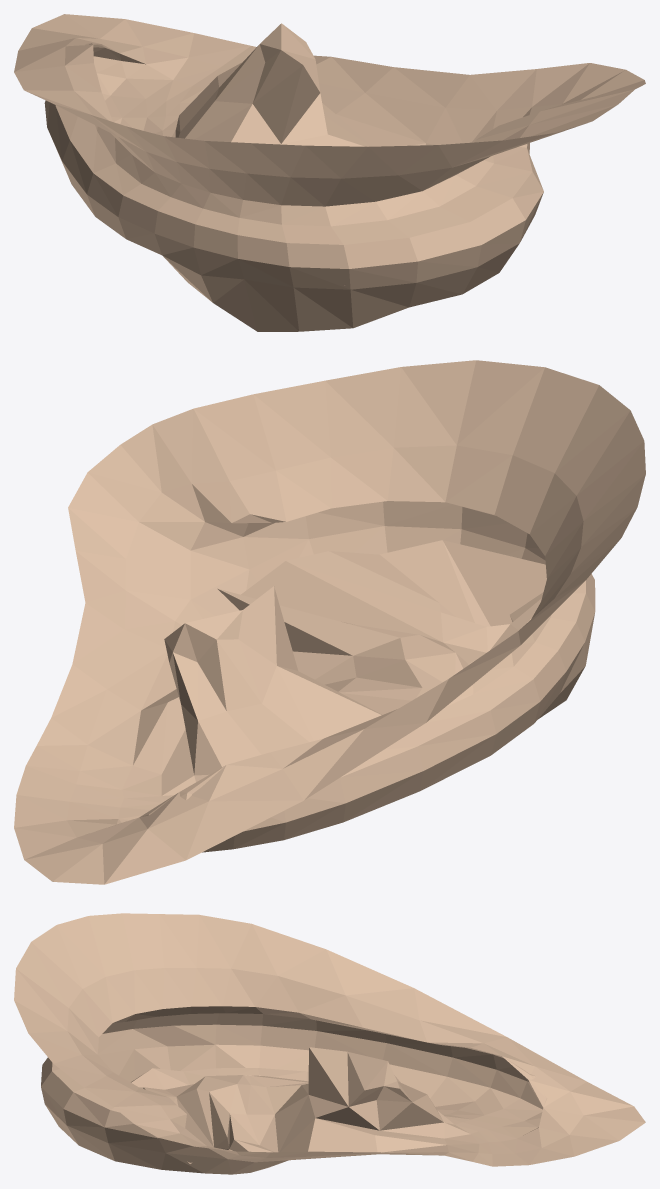
Rendered from Ear.dae.
The picture shows the model from 3 angles, top to bottom: view 1: azimuth 30°, elevation 25°; view 2: azimuth 150°, elevation 25°; view 3: azimuth 270°, elevation 25°; orthographic projection. The views are drawn at different scales.
Visible parts, largest first — view 1: EAR1_Plane_005; view 2: EAR1_Plane_005; view 3: EAR1_Plane_005.
Part boxes in pixels (x1=…): EAR1_Plane_005: x1=14, y1=14, x2=645, y2=331; EAR1_Plane_005: x1=14, y1=360, x2=645, y2=884; EAR1_Plane_005: x1=14, y1=913, x2=645, y2=1174.
Bounding box in the file's own units: 0.1791 × 0.2586 × 0.0772.
Materials: 1 (1 with a texture image).
